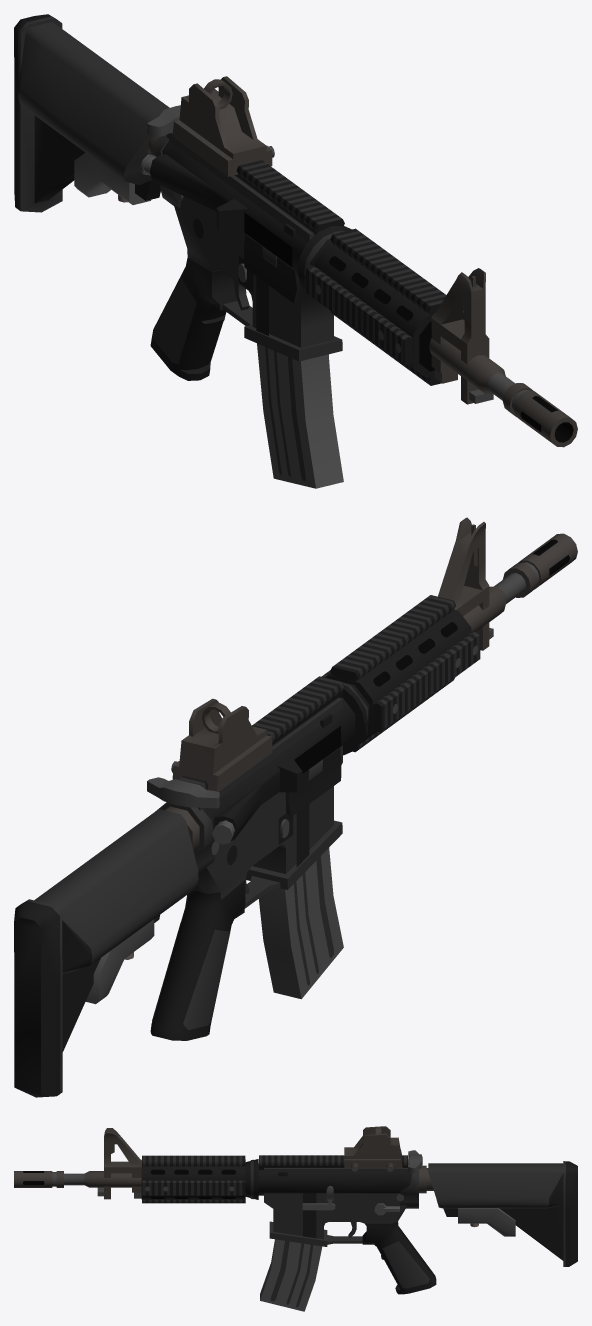
The model's file is Rifle.glb.
3 views of the same model, one above another, from view 1: azimuth 30°, elevation 25°; view 2: azimuth 150°, elevation 25°; view 3: azimuth 270°, elevation 25° (orthographic). The views are drawn at different scales.
Parts seen in each view (by area): view 1: body.001, stock.001, handguard, mag.001, rearsight, barrel, muzzlebrake, frontsight, lever.001; view 2: body.001, stock.001, handguard, mag.001, rearsight, frontsight, barrel, muzzlebrake, lever.001; view 3: body.001, stock.001, handguard, mag.001, rearsight, barrel, muzzlebrake, frontsight, stockpipe, lever.001.
Part boxes in pixels (x1=…): body.001: x1=149, y1=133, x2=344, y2=380; stock.001: x1=14, y1=14, x2=169, y2=212; handguard: x1=297, y1=226, x2=464, y2=385; mag.001: x1=257, y1=343, x2=343, y2=488; rearsight: x1=172, y1=76, x2=274, y2=176; barrel: x1=429, y1=318, x2=515, y2=404; muzzlebrake: x1=503, y1=383, x2=577, y2=447; frontsight: x1=431, y1=268, x2=488, y2=343; lever.001: x1=147, y1=105, x2=180, y2=137; body.001: x1=150, y1=676, x2=355, y2=1040; stock.001: x1=14, y1=809, x2=198, y2=1097; handguard: x1=322, y1=595, x2=480, y2=755; mag.001: x1=259, y1=848, x2=343, y2=999; rearsight: x1=171, y1=698, x2=272, y2=791; frontsight: x1=438, y1=517, x2=489, y2=609; barrel: x1=456, y1=573, x2=525, y2=650; muzzlebrake: x1=502, y1=533, x2=577, y2=597; lever.001: x1=147, y1=777, x2=219, y2=808; body.001: x1=258, y1=1155, x2=436, y2=1294; stock.001: x1=428, y1=1161, x2=577, y2=1266; handguard: x1=141, y1=1155, x2=258, y2=1203; mag.001: x1=260, y1=1239, x2=322, y2=1311; rearsight: x1=344, y1=1126, x2=402, y2=1171; barrel: x1=64, y1=1161, x2=141, y2=1199; muzzlebrake: x1=14, y1=1171, x2=63, y2=1187; frontsight: x1=104, y1=1128, x2=141, y2=1167; stockpipe: x1=419, y1=1165, x2=433, y2=1193; lever.001: x1=408, y1=1150, x2=422, y2=1173.
Bounding box in the file's own units: 0.0865 × 0.3343 × 0.9491.
Materials: 1 (1 with a texture image).
